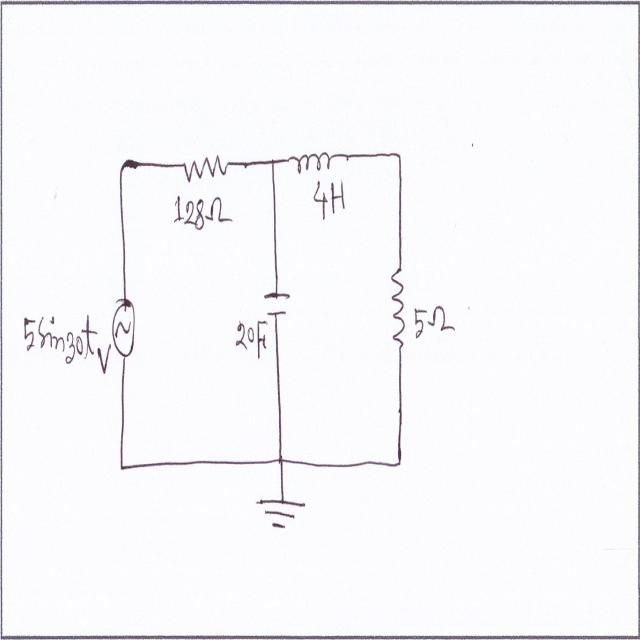ac_current: (110, 296, 137, 360)
capacitor: (262, 286, 290, 324)
ground: (252, 490, 310, 536)
inductor: (288, 148, 346, 178)
resistor: (181, 153, 230, 190), (389, 264, 406, 348)
